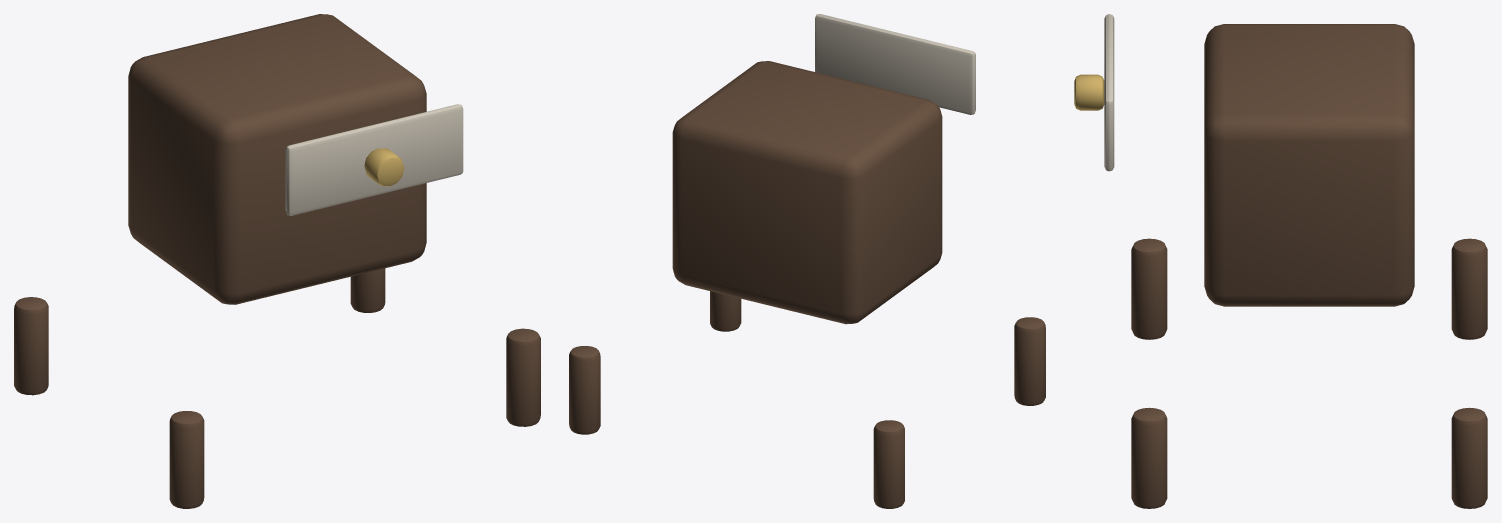
File: nightstand.glb
3 renders of one model, left to right at view 1: azimuth 30°, elevation 25°; view 2: azimuth 150°, elevation 25°; view 3: azimuth 270°, elevation 25°, orthographic. The views are drawn at different scales.
Parts seen in each view (by area): view 1: body, drawer, leg, leg.002, leg.001, leg.003, knob; view 2: body, drawer, leg, leg.003, leg.001, leg.002; view 3: body, leg, leg.001, leg.002, leg.003, drawer, knob.
Part boxes in pixels (x1,y1,x2,y2): body: (128, 14, 426, 304); drawer: (285, 104, 463, 215); leg: (169, 411, 204, 508); leg.002: (506, 328, 540, 426); leg.001: (14, 297, 48, 395); leg.003: (350, 268, 385, 312); knob: (364, 148, 404, 186); body: (672, 61, 942, 324); drawer: (815, 14, 975, 114); leg: (1014, 317, 1045, 405); leg.003: (569, 346, 600, 434); leg.001: (873, 420, 904, 508); leg.002: (710, 291, 741, 331); body: (1204, 24, 1414, 306); leg: (1131, 238, 1167, 339); leg.001: (1451, 238, 1487, 339); leg.002: (1131, 407, 1167, 508); leg.003: (1451, 407, 1487, 508); drawer: (1104, 14, 1114, 171); knob: (1074, 74, 1104, 110).
Size of the model in its own units: 0.436 by 0.4 by 0.413.
